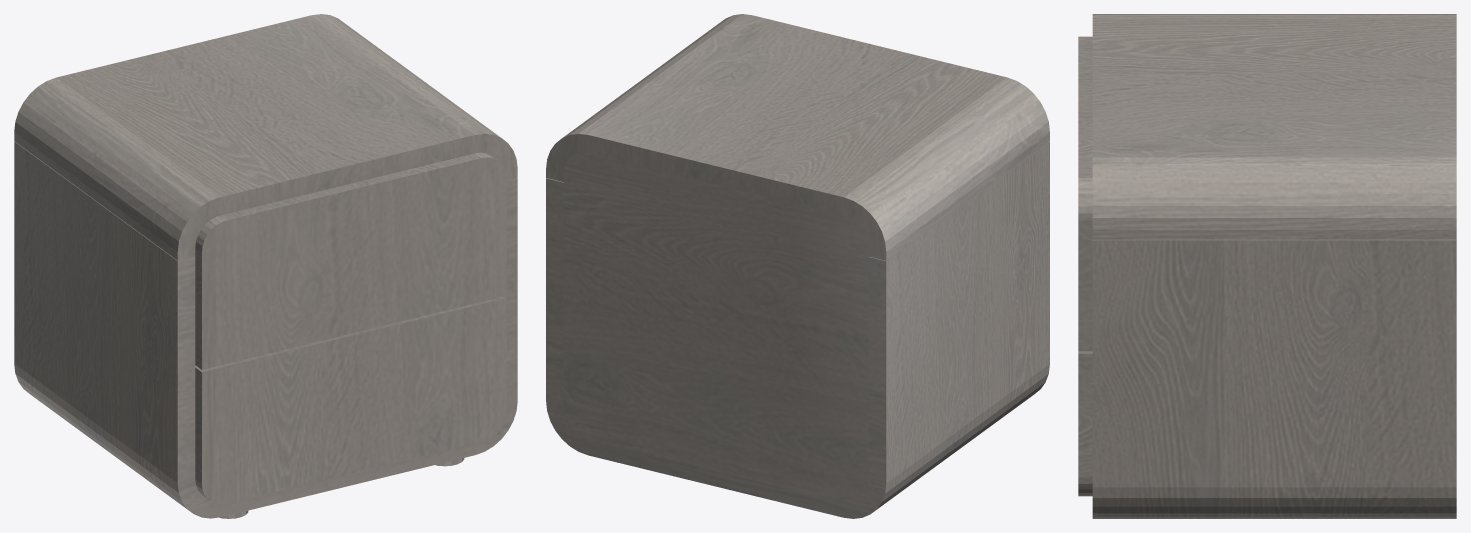
The model's file is raw_model.obj.
3 views of the same model, side by side, from view 1: azimuth 30°, elevation 25°; view 2: azimuth 150°, elevation 25°; view 3: azimuth 270°, elevation 25° (orthographic). The views are drawn at different scales.
Parts seen in each view (by area): view 1: solid_001; view 2: solid_001; view 3: solid_001.
Part boxes in pixels (<box>): solid_001: <box>14,14,517,518</box>; solid_001: <box>546,14,1049,518</box>; solid_001: <box>1078,14,1456,518</box>.
Bounding box in the file's own units: 0.5 × 0.4584 × 0.4333.
Materials: 1 (1 with a texture image).
